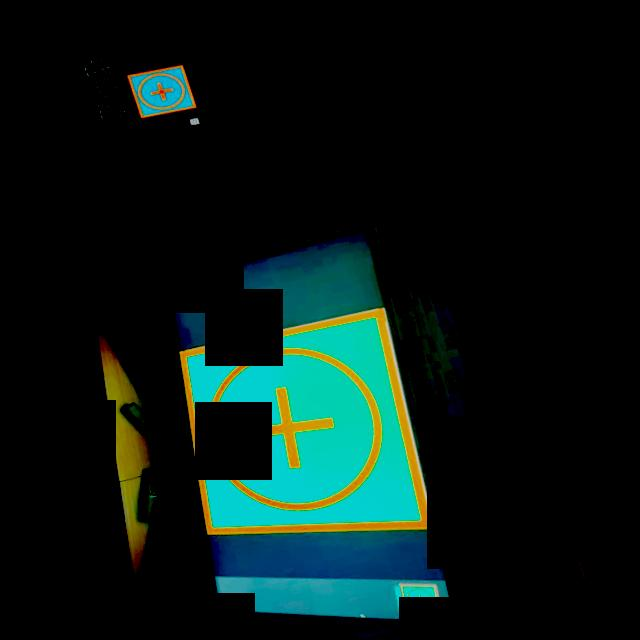Marker: (149, 292, 445, 580), (125, 58, 195, 120), (393, 571, 436, 617)
